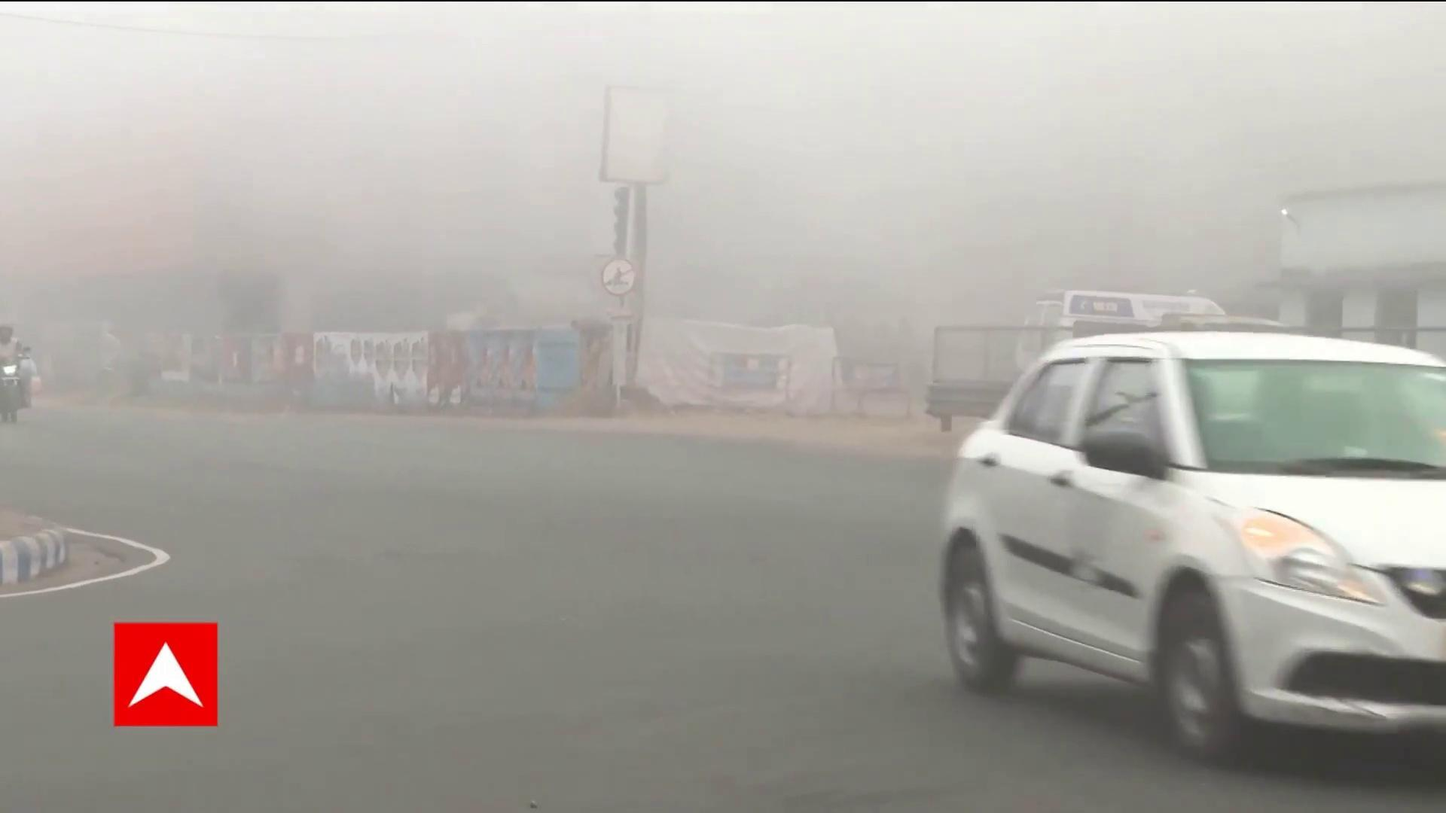Car: (932, 326, 1446, 792)
